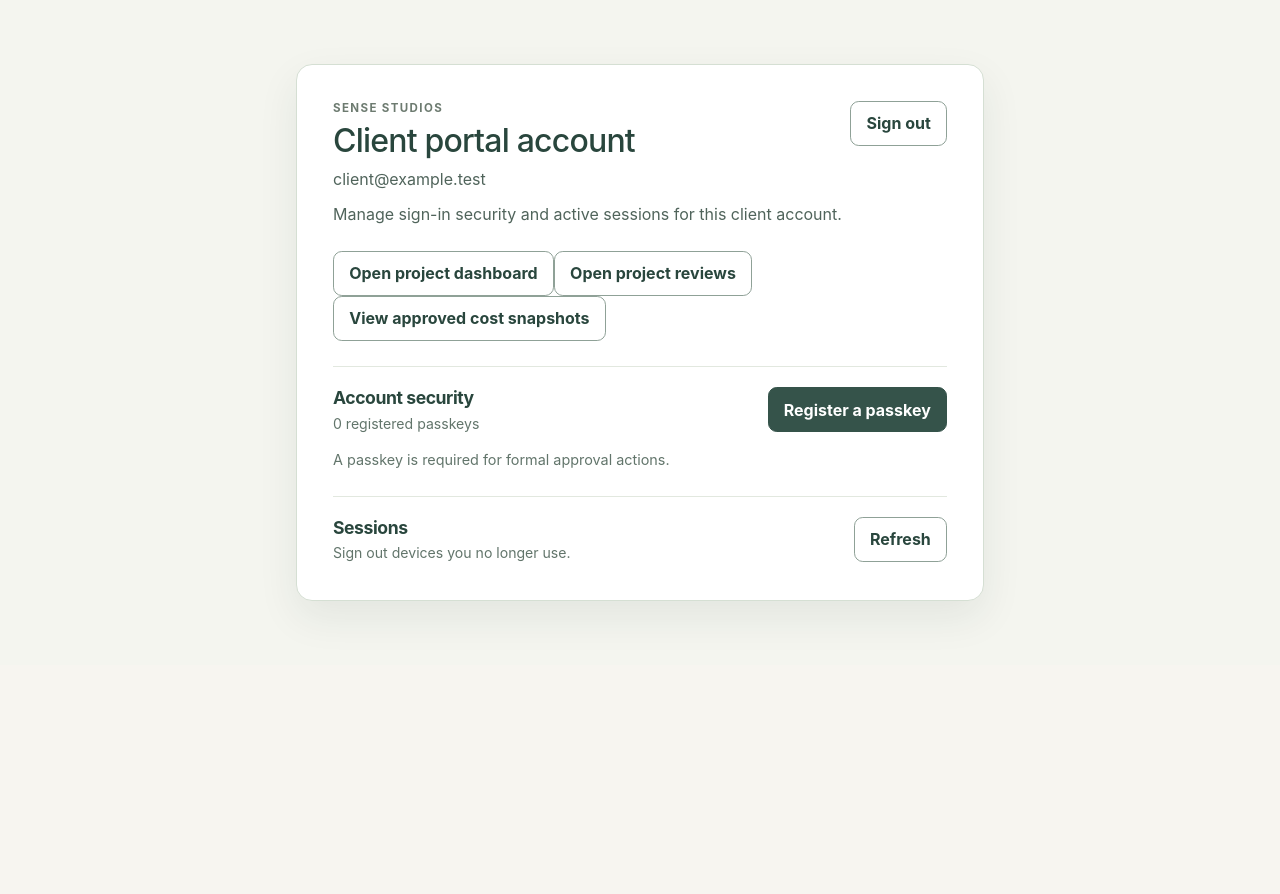
Test case: client portal identity and security › shows only the explicitly shared approved cost snapshot returned for the selected project
The width and height of the screenshot is (1280, 894).
Click the button "View approved cost snapshots": coordinates (469, 318) [333,296,606,341]
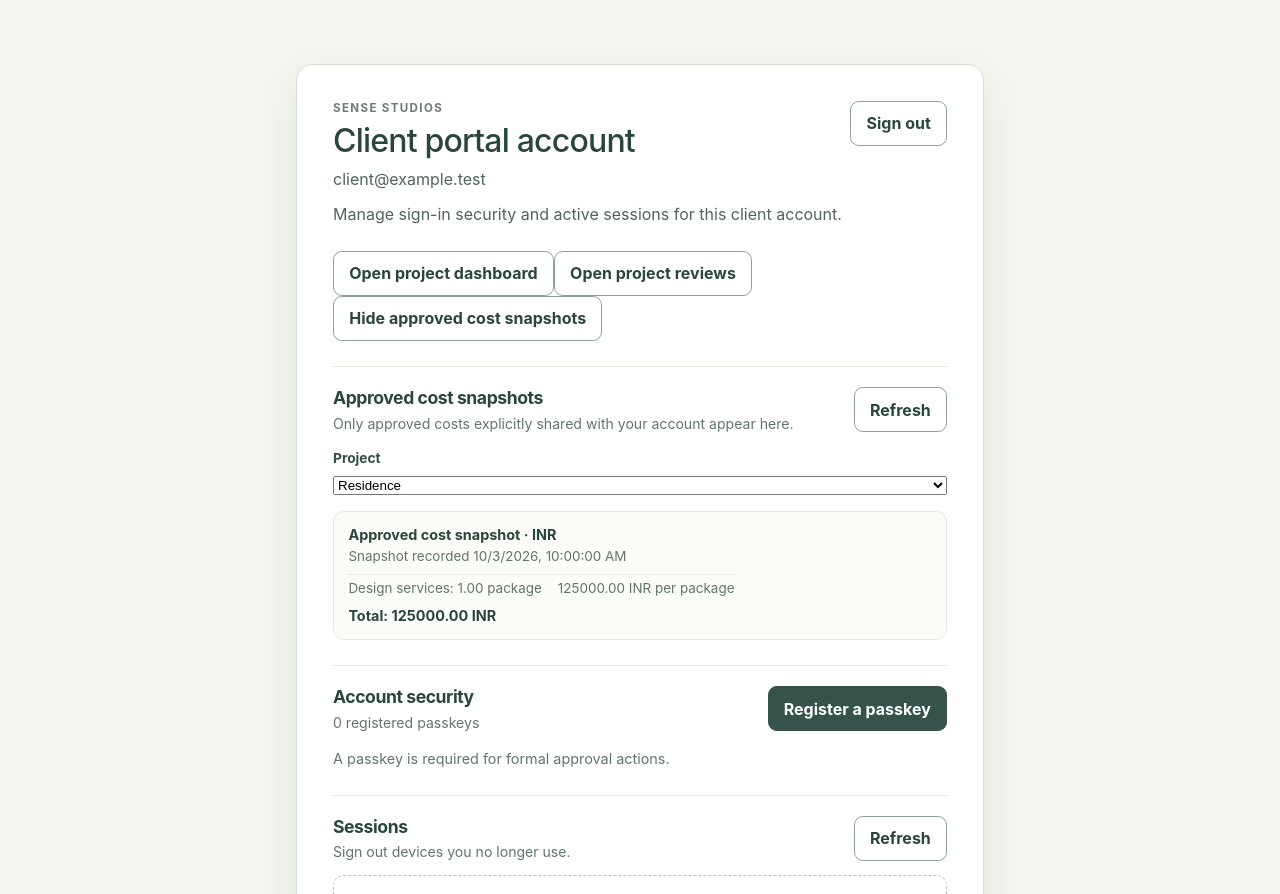
Now the text "Design services: 1.00 package" is shown, box [348,580,542,596]
Now the text "125000.00 INR per package" is shown, box [558,580,734,596]
Now the text "Total: 125000.00 INR" is shown, box [348,607,496,624]
